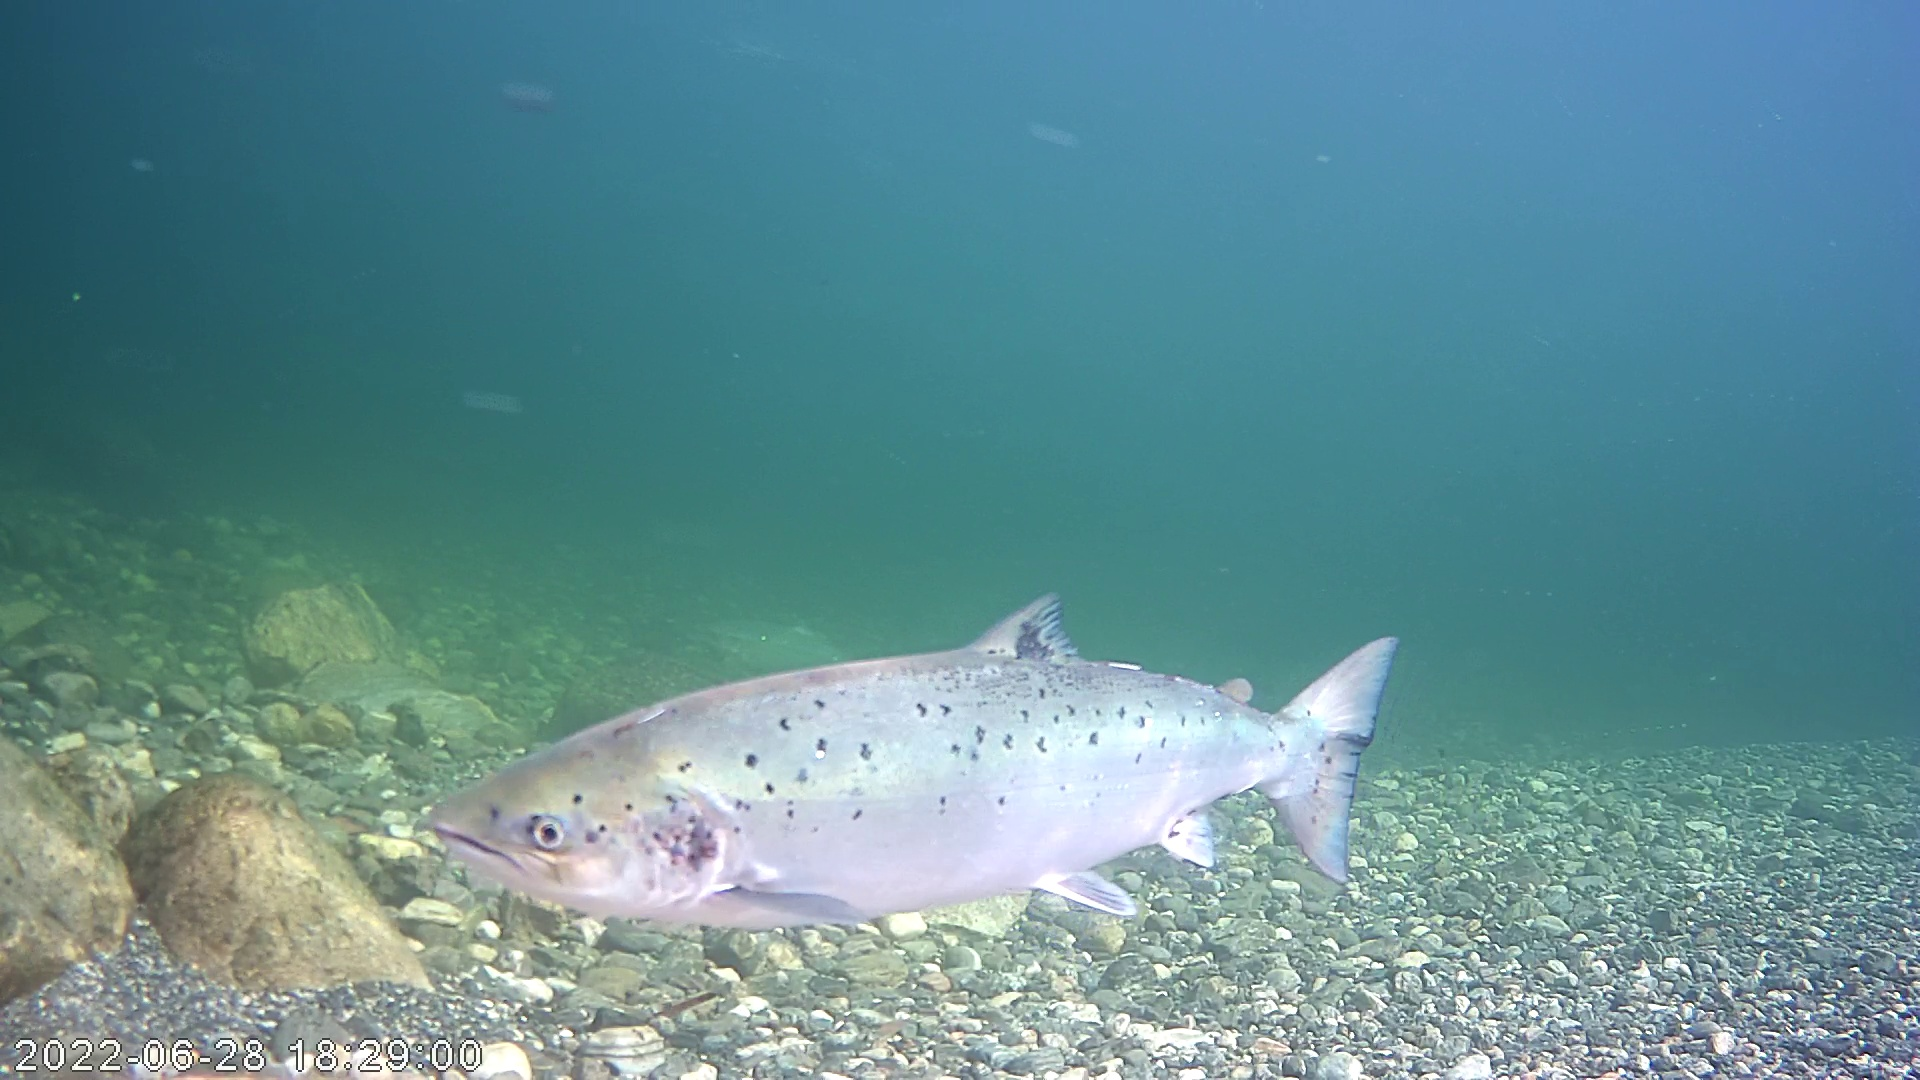salmon: (414, 525, 1408, 943)
